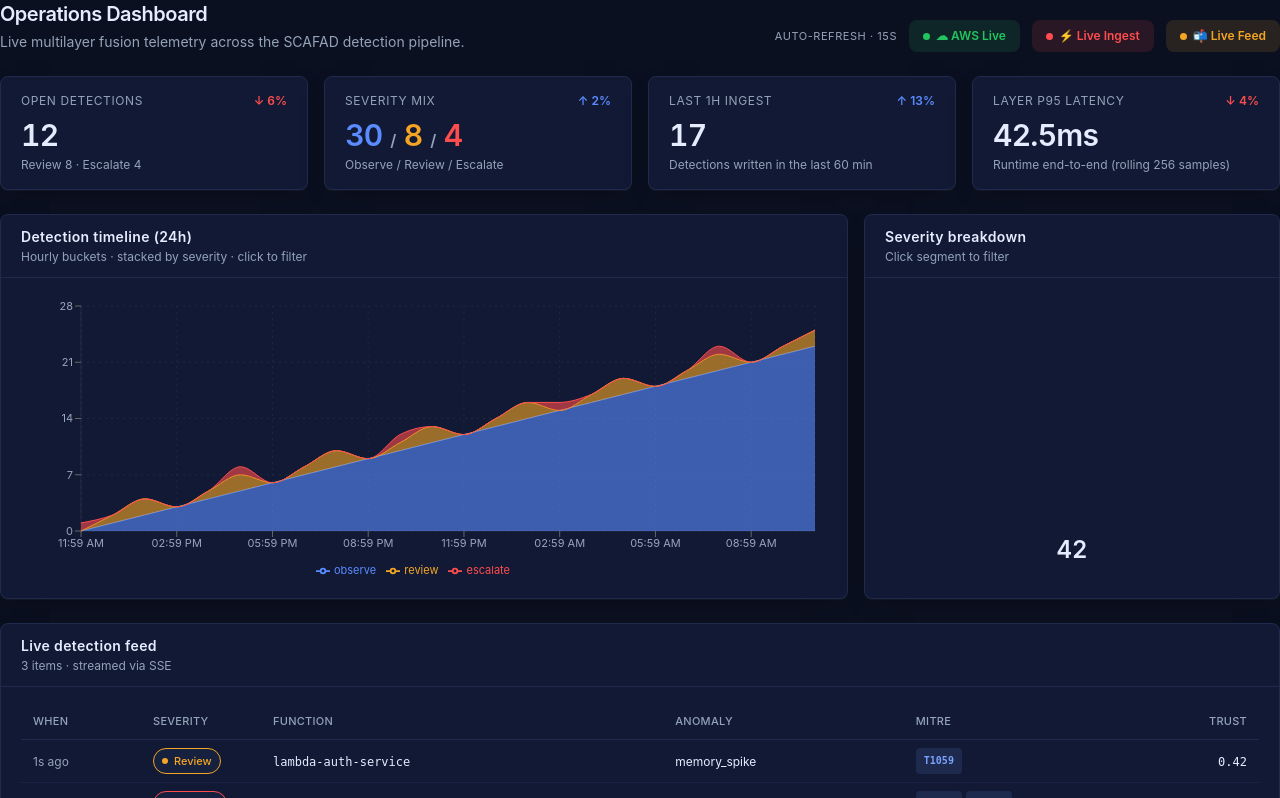
Test: Dashboard Upgrade Features › Live Feed Button and Panel › closes Live Anomaly Feed panel when close button is clicked
expect the text "Open detections" is shown: met, box 21,93 -> 143,109
Open the panel
Click the button "📬 Live Feed" at point(1223, 36), box 1166,20 -> 1279,52
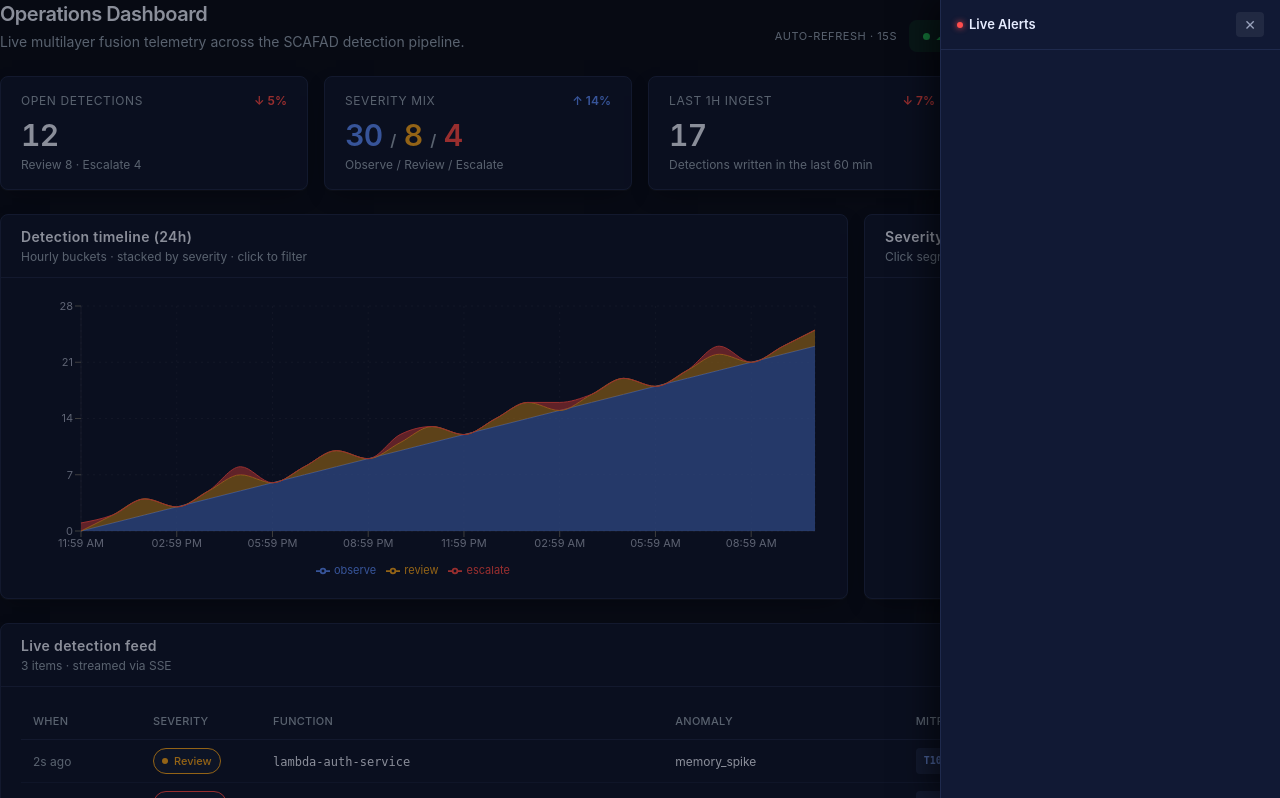
expect the heading "Live Alerts" is shown: met, box 969,15 -> 1036,34
Close the panel
Click the button "✕" at point(1250, 24), box 1236,12 -> 1264,37
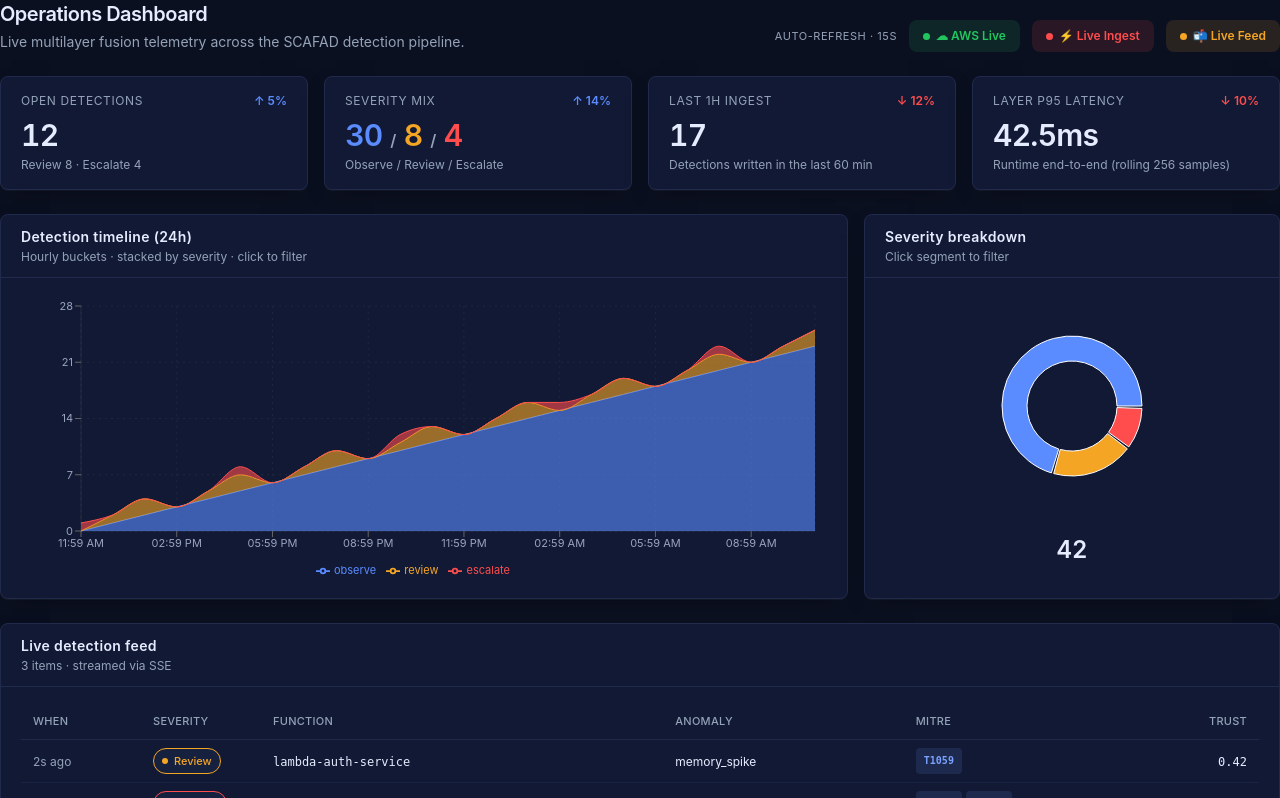
expect the heading "Live Alerts" is gone: met
